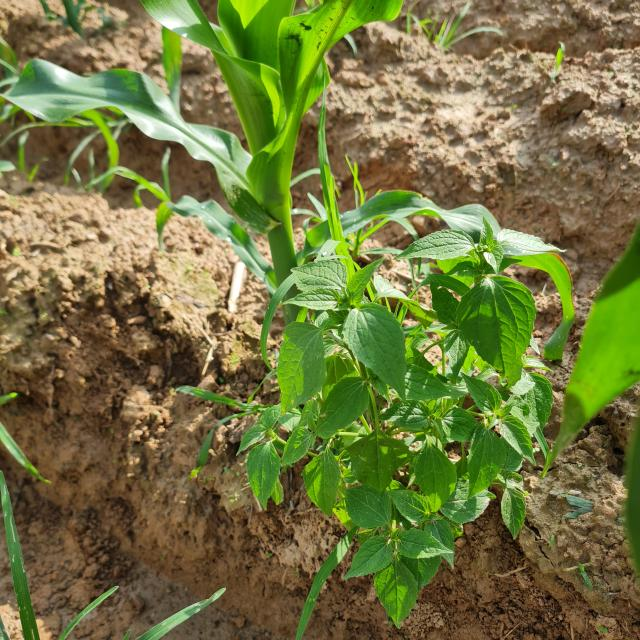maize: (15, 0, 415, 246), (575, 251, 640, 569)
weed: (300, 220, 525, 586)
